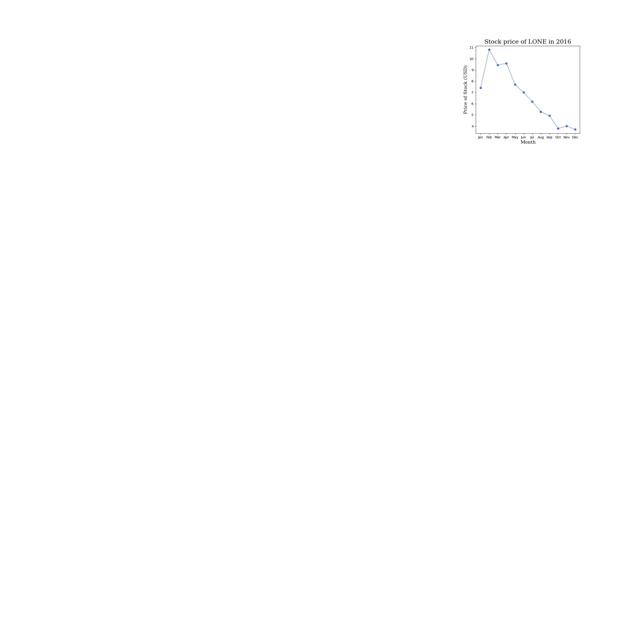Graph: (450, 32, 602, 146)
